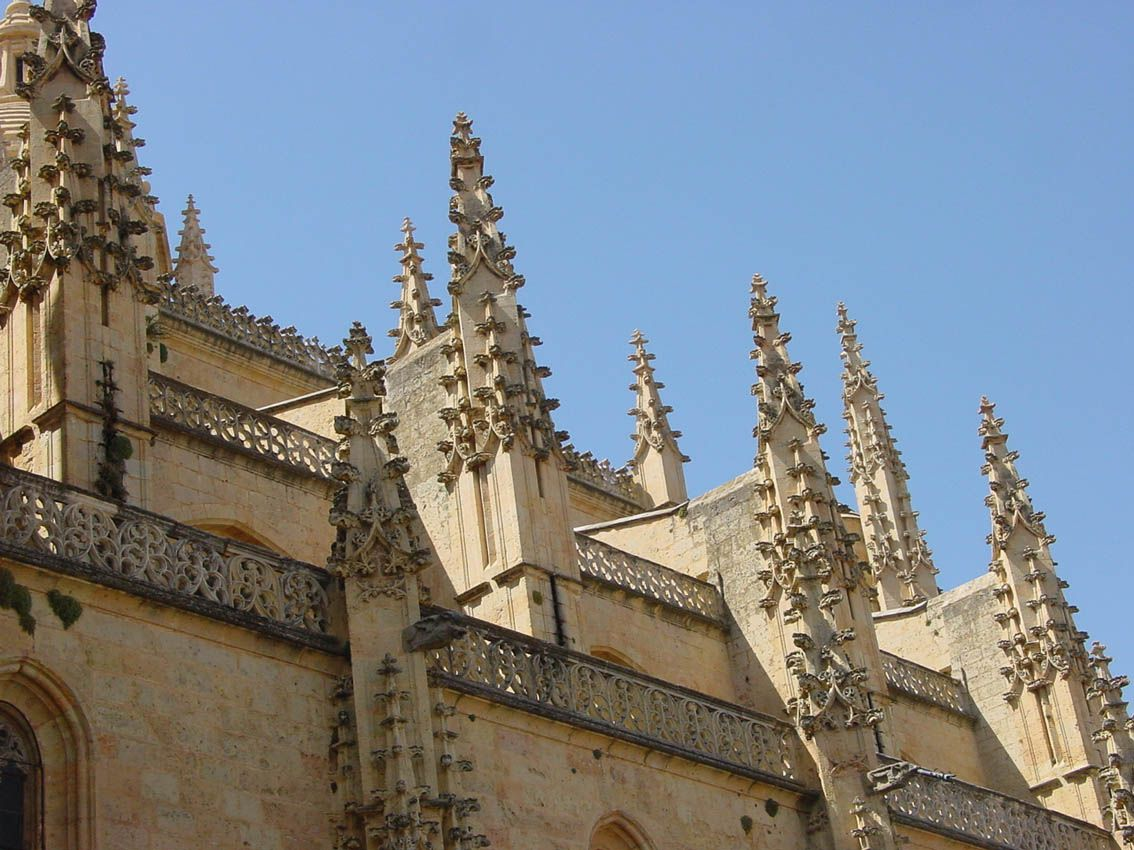pinaculo-gotico: (325, 317, 414, 542), (438, 104, 524, 301), (972, 386, 1052, 555), (742, 266, 820, 432), (624, 320, 683, 457), (387, 209, 442, 351), (830, 291, 890, 421), (172, 185, 217, 286)
